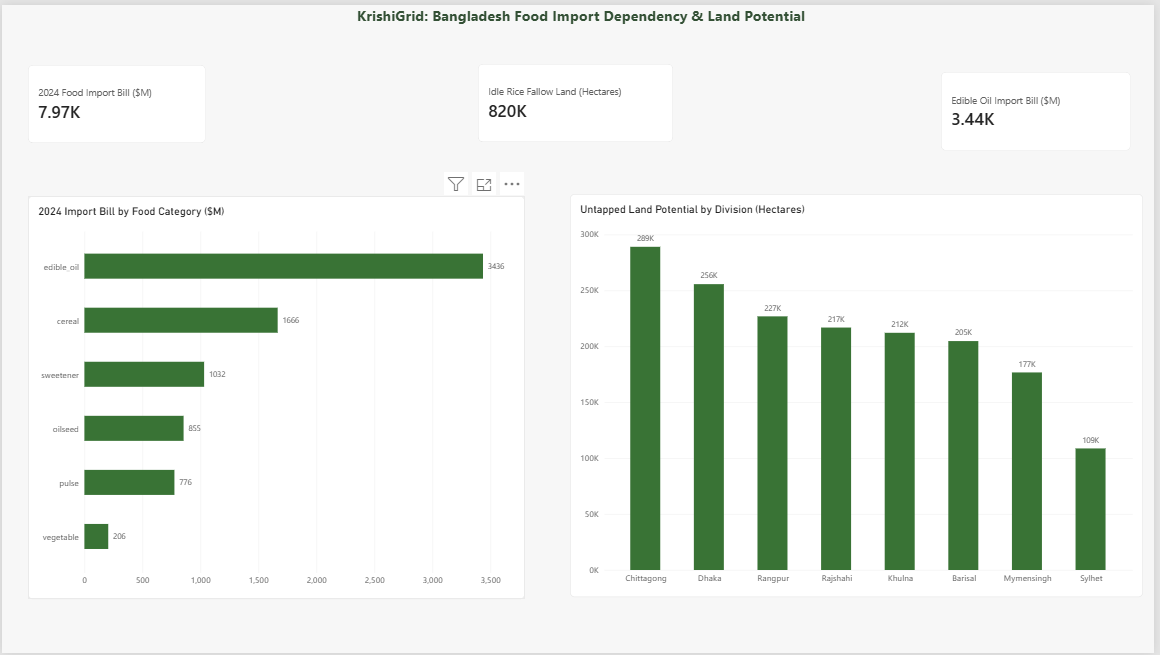

What the dashboard file says about the page in this screenshot:
{"tool":"powerbi","page":{"name":"National Overview","canvas":[1920,1080],"ordinal":0},"visuals":[{"type":"textbox","box":[10,0,1910,63.3],"z":0},{"type":"cardVisual","fields":{"Data":["Sum(imports.import_cost_usd_million)"]},"box":[43.3,100,296.7,130],"z":1},{"type":"cardVisual","fields":{"Data":["Sum(lands.rice_fallow_land_hectare)"]},"box":[793.3,98.3,325,130],"z":3},{"type":"cardVisual","fields":{"Data":["Sum(imports.import_cost_usd_million)"]},"box":[1565,111.7,316.7,131.7],"z":4},{"type":"clusteredBarChart","title":"2024 Import Bill by Food Category ($M)","fields":{"Category":["imports.product_category"],"Y":["Sum(imports.import_cost_usd_million)"]},"box":[43.3,318.3,828.3,671.7],"z":5},{"type":"clusteredColumnChart","title":"Untapped Land Potential by Division (Hectares)","fields":{"Category":["lands.division"],"Y":["Sum(lands.total_untapped_potential_hectare)"]},"box":[946.7,315,955,671.7],"z":6}]}

Visuals, with their boxes in screenshot pixels (x1, y1, x2, y2), scaled from the page's 1920x1080 canvas onto the 1160x655 screenshot:
textbox: 6:0:1159:38
cardVisual - Sum(imports.import_cost_usd_million): 26:61:205:139
cardVisual - Sum(lands.rice_fallow_land_hectare): 479:60:676:138
cardVisual - Sum(imports.import_cost_usd_million): 946:68:1137:148
"2024 Import Bill by Food Category ($M)" clusteredBarChart: 26:193:527:600
"Untapped Land Potential by Division (Hectares)" clusteredColumnChart: 572:191:1149:598
